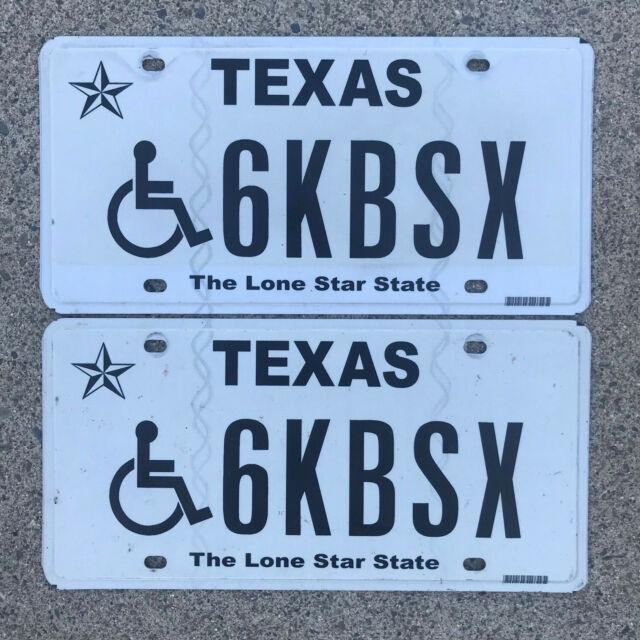symbol_of_access: (100, 135, 217, 264), (102, 416, 216, 537)
